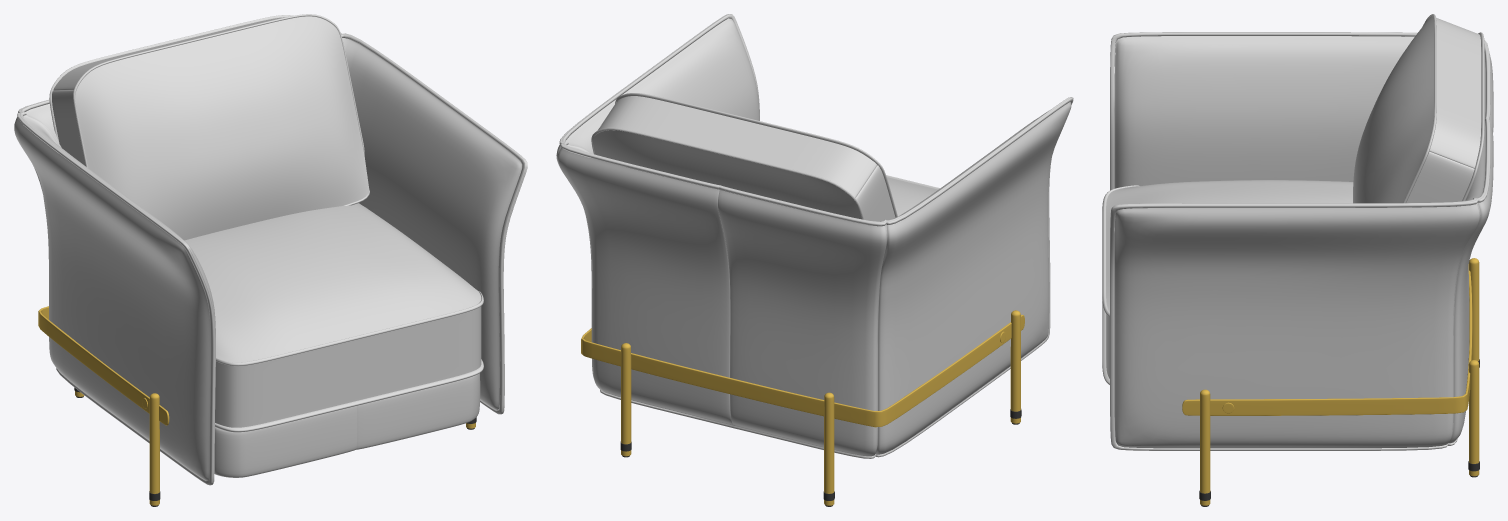
File: SLN_Oasis_1_Seater.glb
3 renders of one model, left to right at view 1: azimuth 30°, elevation 25°; view 2: azimuth 150°, elevation 25°; view 3: azimuth 270°, elevation 25°, orthographic. The views are drawn at different scales.
Visible parts, largest first — view 1: Oasis_1_Seater; view 2: Oasis_1_Seater; view 3: Oasis_1_Seater.
Part boxes in pixels (left/top/right/bottom): Oasis_1_Seater: left=14, top=14, right=527, bottom=506; Oasis_1_Seater: left=556, top=14, right=1073, bottom=506; Oasis_1_Seater: left=1102, top=14, right=1493, bottom=506.
Bounding box in the file's own units: 0.8855 × 0.84 × 0.8313.
